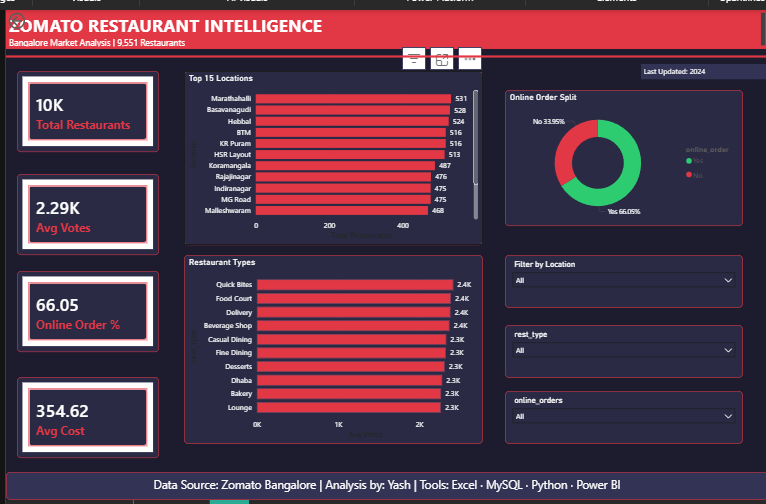

Layout of this report page (visuals, bound fields, positions):
{"tool":"powerbi","page":{"name":"Page 1","canvas":[1400,900],"ordinal":0},"visuals":[{"type":"shape","box":[0,0,1399.6,71.6],"z":0},{"type":"textbox","box":[0,0,1399.6,71.6],"z":1000},{"type":"cardVisual","fields":{"Data":["zomato.Total Restaurants"]},"box":[20.2,112.1,260.9,148.8],"z":6000},{"type":"cardVisual","fields":{"Data":["zomato.Avg Cost"]},"box":[20.2,674.3,260.9,148.8],"z":7000},{"type":"cardVisual","fields":{"Data":["zomato.Online Order %"]},"box":[20.2,479.5,260.9,148.8],"z":8000},{"type":"cardVisual","fields":{"Data":["zomato.Avg Votes"]},"box":[20.2,301.3,260.9,148.8],"z":9000},{"type":"clusteredBarChart","title":"Top 15 Locations","fields":{"Category":["zomato.location"],"Y":["zomato.Total Restaurants"]},"box":[327,112.1,549.3,319.7],"z":9001},{"type":"donutChart","title":"Online Order Split","fields":{"Category":["zomato.online_order"],"Y":["zomato.Total Restaurants"]},"box":[916.8,147,437.3,249.9],"z":9002},{"type":"clusteredBarChart","title":"Restaurant Types","fields":{"Category":["zomato.rest_type"],"Y":["zomato.Avg Votes"]},"box":[327,450.1,549.3,347.2],"z":9003},{"type":"slicer","fields":{"Values":["zomato.location"]},"box":[916.8,450.1,437.3,97.4],"z":9004},{"type":"slicer","fields":{"Values":["zomato.online_order"]},"box":[916.8,700,437.3,97.4],"z":9005},{"type":"slicer","fields":{"Values":["zomato.rest_type"]},"box":[916.8,578.7,437.3,97.4],"z":9006},{"type":"actionButton","box":[0,0,100,40],"z":9007},{"type":"shape","box":[0,71.7,1400,27.6],"z":9008},{"type":"textbox","box":[0,848.8,1400,51.4],"z":9009},{"type":"textbox","box":[1166.7,99.2,233.3,27.6],"z":9010}]}

Visuals, with their boxes on the page's 1400x900 design canvas (x1, y1, x2, y2). These are canvas units, not pixel positions in the 766x504 screenshot, which may show the page scaled, cropped or inside an application window:
shape: box(0, 0, 1400, 72)
textbox: box(0, 0, 1400, 72)
cardVisual - zomato.Total Restaurants: box(20, 112, 281, 261)
cardVisual - zomato.Avg Cost: box(20, 674, 281, 823)
cardVisual - zomato.Online Order %: box(20, 480, 281, 628)
cardVisual - zomato.Avg Votes: box(20, 301, 281, 450)
"Top 15 Locations" clusteredBarChart: box(327, 112, 876, 432)
"Online Order Split" donutChart: box(917, 147, 1354, 397)
"Restaurant Types" clusteredBarChart: box(327, 450, 876, 797)
slicer - zomato.location: box(917, 450, 1354, 548)
slicer - zomato.online_order: box(917, 700, 1354, 797)
slicer - zomato.rest_type: box(917, 579, 1354, 676)
actionButton: box(0, 0, 100, 40)
shape: box(0, 72, 1400, 99)
textbox: box(0, 849, 1400, 900)
textbox: box(1167, 99, 1400, 127)
